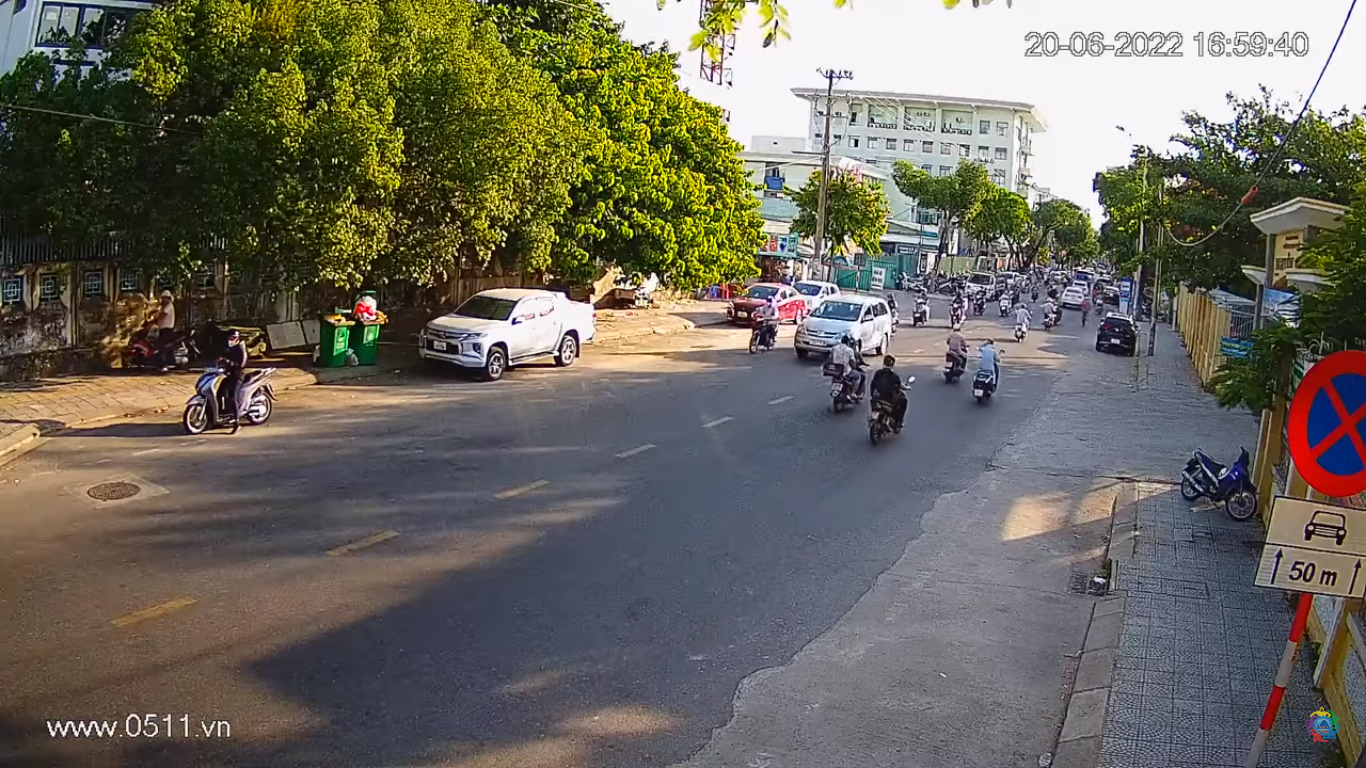car: (792, 294, 892, 365)
